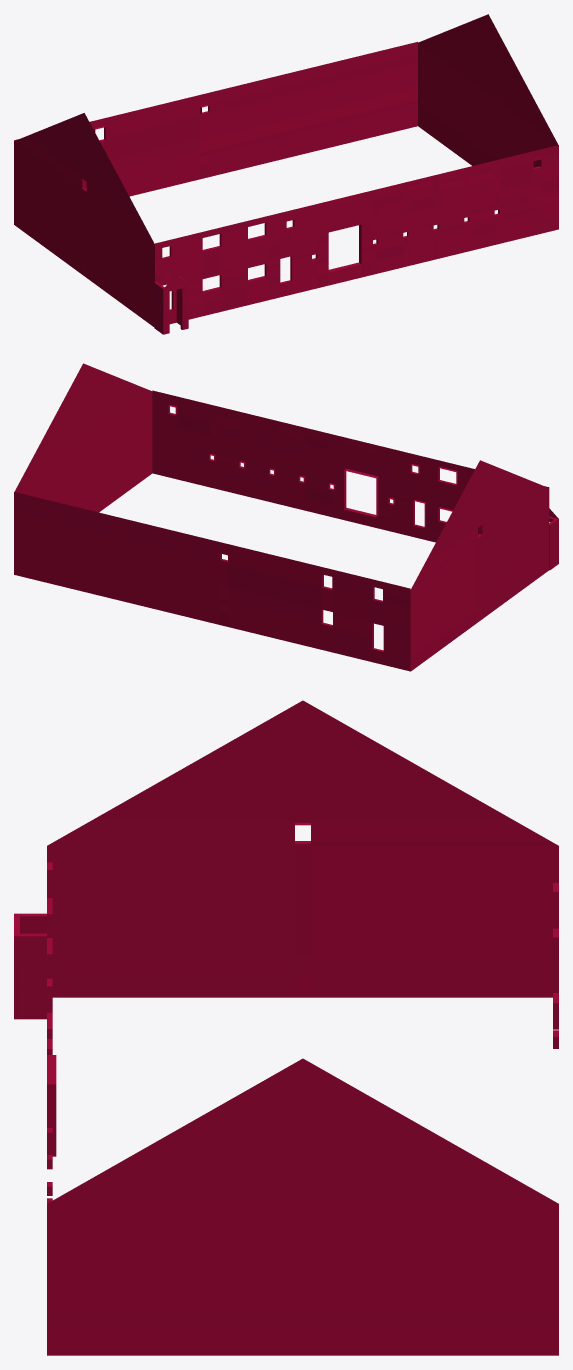
Rendered from SM_Bld_143_Masonry.glb.
3 renders of one model, top to bottom at view 1: azimuth 30°, elevation 25°; view 2: azimuth 150°, elevation 25°; view 3: azimuth 270°, elevation 25°, orthographic. The views are drawn at different scales.
Parts seen in each view (by area): view 1: SM_Bld_143_Masonry; view 2: SM_Bld_143_Masonry; view 3: SM_Bld_143_Masonry.
Part boxes in pixels (x1=…): SM_Bld_143_Masonry: x1=14, y1=14, x2=558, y2=334; SM_Bld_143_Masonry: x1=14, y1=363, x2=558, y2=671; SM_Bld_143_Masonry: x1=14, y1=700, x2=558, y2=1355.
Bounding box in the file's own units: 31.94 × 12.34 × 20.51.
